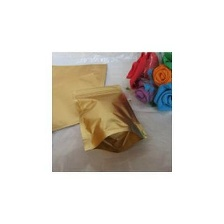snack: (68, 80, 154, 156)
